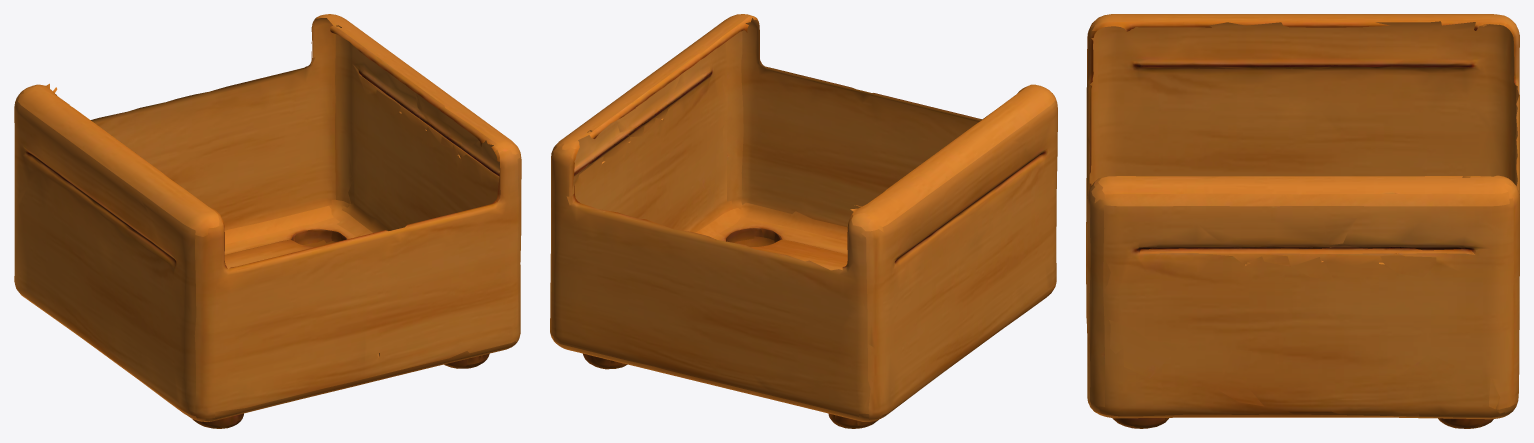
3 views of the same model, side by side, from view 1: azimuth 30°, elevation 25°; view 2: azimuth 150°, elevation 25°; view 3: azimuth 270°, elevation 25° (orthographic). The views are drawn at different scales.
Visible parts, largest first — view 1: geometry_0; view 2: geometry_0; view 3: geometry_0.
Boxes of the visible parts, box(x1,y1,x2,y2) form: geometry_0: box(14, 14, 521, 428); geometry_0: box(550, 14, 1057, 428); geometry_0: box(1086, 14, 1519, 428).
Size of the model in its own units: 0.12 by 0.0774 by 0.1182.
1 material, 1 textured.
